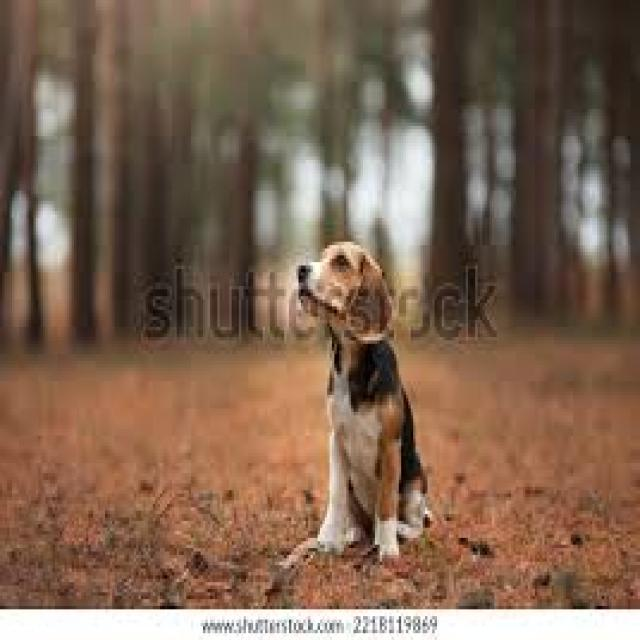Dog: (288, 236, 438, 570)
